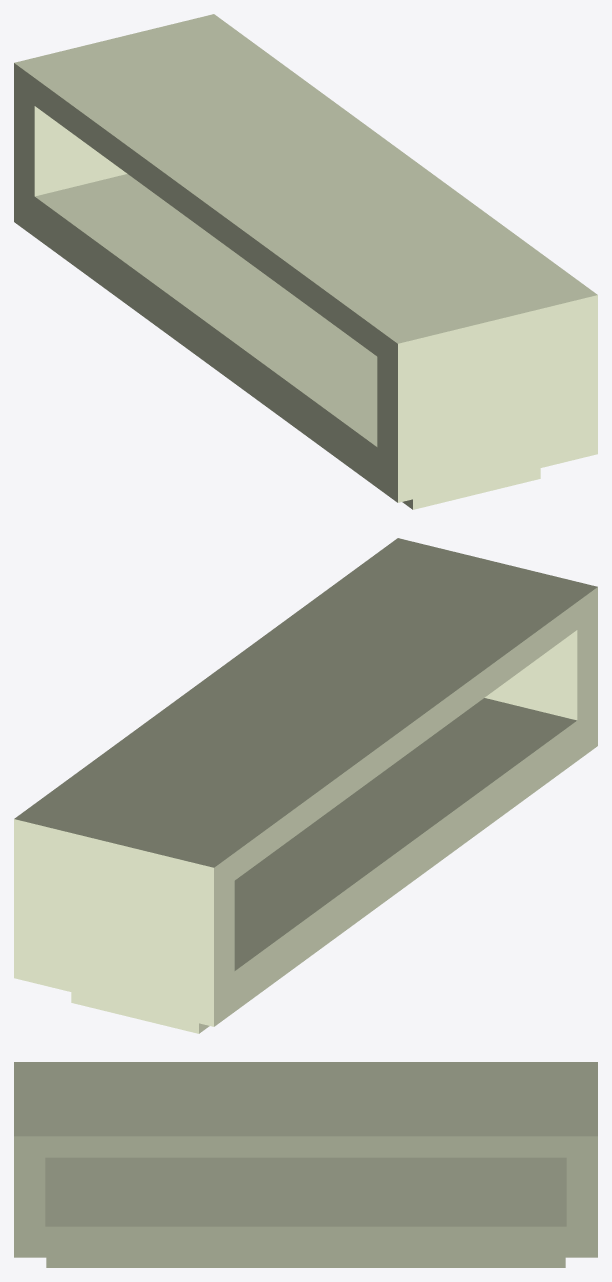
The model's file is hotl_stand.FBX.
3 renders of one model, top to bottom at view 1: azimuth 30°, elevation 25°; view 2: azimuth 150°, elevation 25°; view 3: azimuth 270°, elevation 25°, orthographic. The views are drawn at different scales.
Parts seen in each view (by area): view 1: stand; view 2: stand; view 3: stand.
Boxes of the visible parts, <box> form: stand: <box>14,14,597,509</box>; stand: <box>14,538,597,1033</box>; stand: <box>14,1062,597,1267</box>.
Bounding box in the file's own units: 0.6348 × 0.5774 × 2.11.
